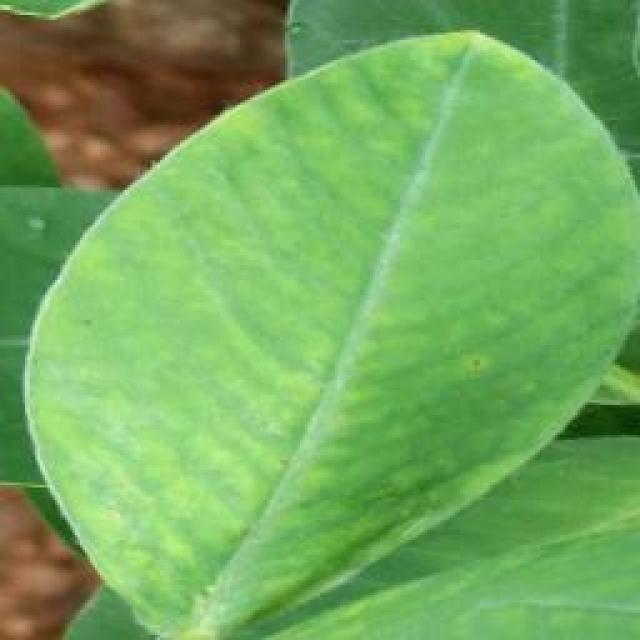Sigatoka: (448, 335, 512, 426)
